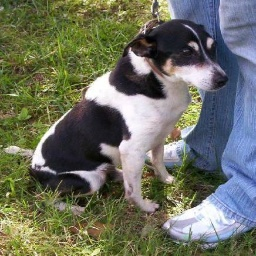dog: (29, 15, 215, 225)
